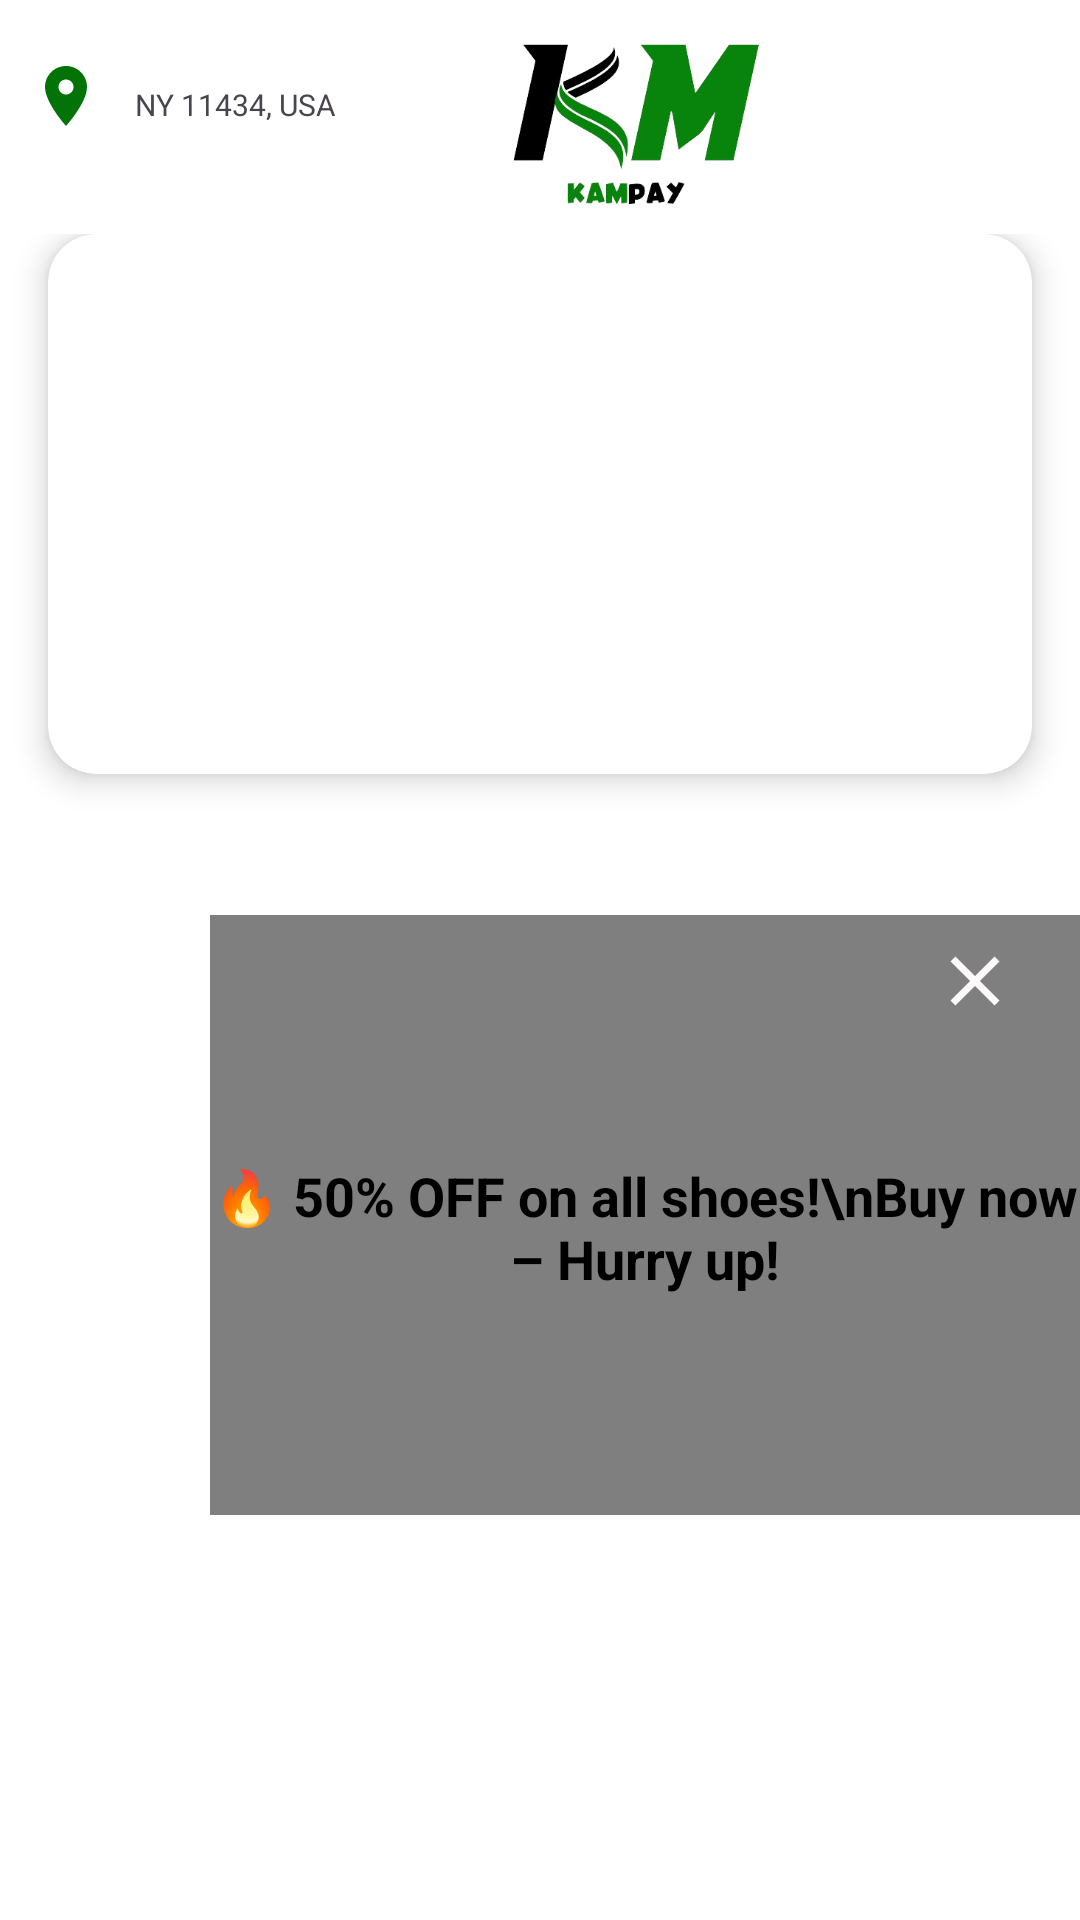

Where to tap for icons on this 1080px x 1920px app screen, as [x,y]:
close: [975,981]
location: [66,96]
